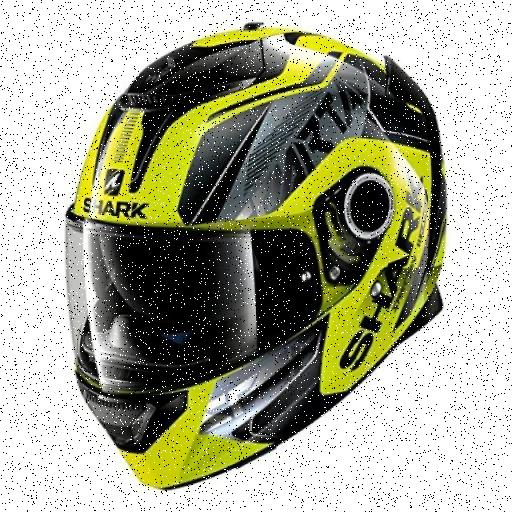Helmet: (56, 49, 445, 498)
